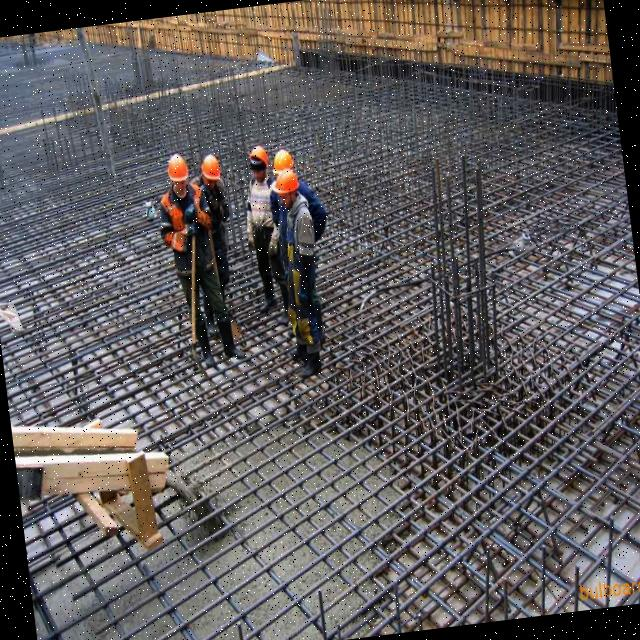Helmet: (274, 170, 303, 202), (165, 154, 191, 189), (200, 153, 223, 185), (247, 146, 271, 173), (271, 147, 295, 173)
Jacket: (164, 186, 214, 274)
NoJacket: (282, 199, 320, 299), (244, 175, 283, 251)
